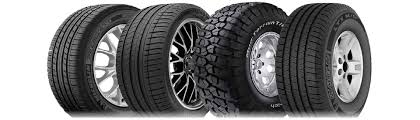tire: (191, 1, 288, 119), (275, 3, 372, 118), (114, 3, 211, 118), (46, 3, 140, 118)
